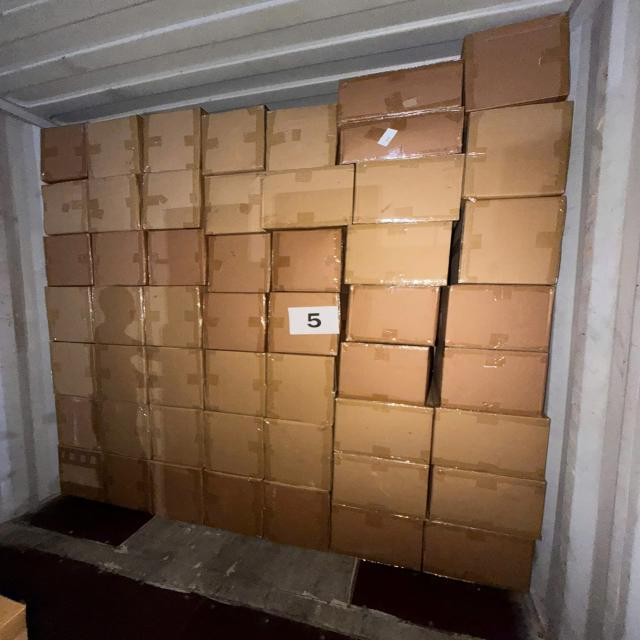Carton: (336, 57, 466, 167), (458, 12, 577, 113), (460, 99, 578, 200), (464, 201, 568, 291), (422, 520, 536, 596), (432, 466, 550, 538), (432, 406, 549, 478), (438, 346, 548, 416), (444, 286, 555, 354), (342, 220, 452, 286), (351, 161, 461, 227), (334, 396, 435, 464), (329, 504, 423, 576), (332, 453, 429, 520), (339, 342, 432, 406), (261, 168, 354, 231), (343, 287, 437, 348), (263, 416, 331, 492), (264, 351, 335, 423), (262, 478, 330, 552), (268, 294, 344, 360), (267, 106, 339, 172), (271, 230, 343, 294), (202, 107, 266, 176), (204, 348, 267, 417), (204, 410, 266, 480), (203, 471, 264, 540), (201, 290, 268, 352), (205, 231, 272, 292), (200, 172, 262, 236), (141, 109, 202, 174), (140, 171, 203, 233), (145, 343, 205, 407), (143, 284, 202, 348), (152, 402, 208, 467), (153, 461, 206, 528), (145, 227, 206, 285), (84, 117, 141, 179), (102, 451, 155, 515), (91, 343, 147, 403), (90, 287, 144, 348), (86, 175, 142, 233), (97, 402, 152, 460), (92, 233, 148, 289), (52, 392, 104, 452), (56, 443, 106, 503), (45, 288, 94, 346), (44, 232, 93, 286), (43, 181, 90, 237), (42, 123, 87, 181), (50, 342, 95, 398)
